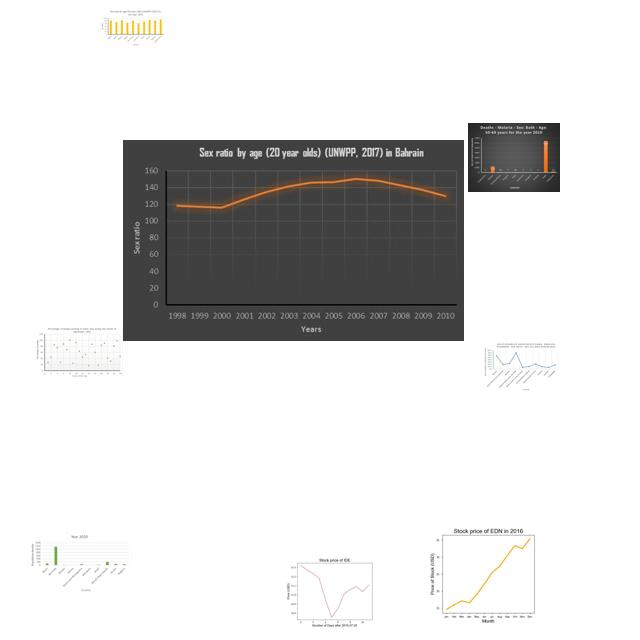Graph: (123, 140, 464, 341), (413, 523, 560, 624), (284, 554, 383, 628), (27, 532, 132, 595), (468, 123, 560, 192), (36, 327, 123, 378), (483, 342, 560, 392), (99, 9, 165, 47)
